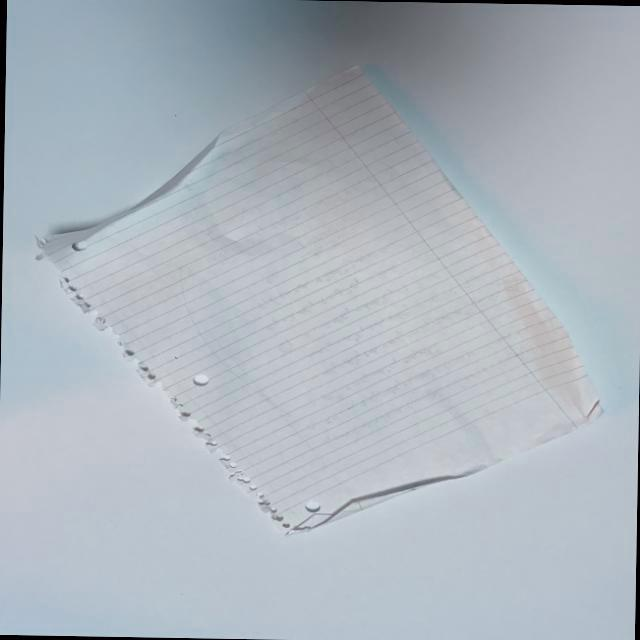paper: (11, 61, 614, 550)
